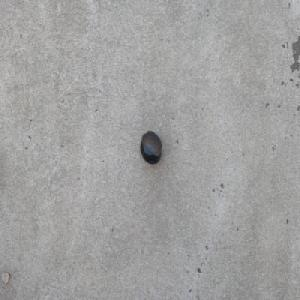FuelCap: (139, 130, 162, 165)
